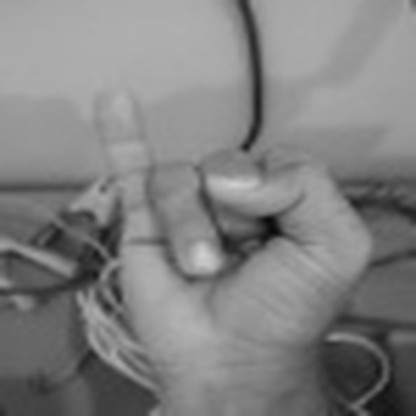i: (92, 77, 391, 371)
